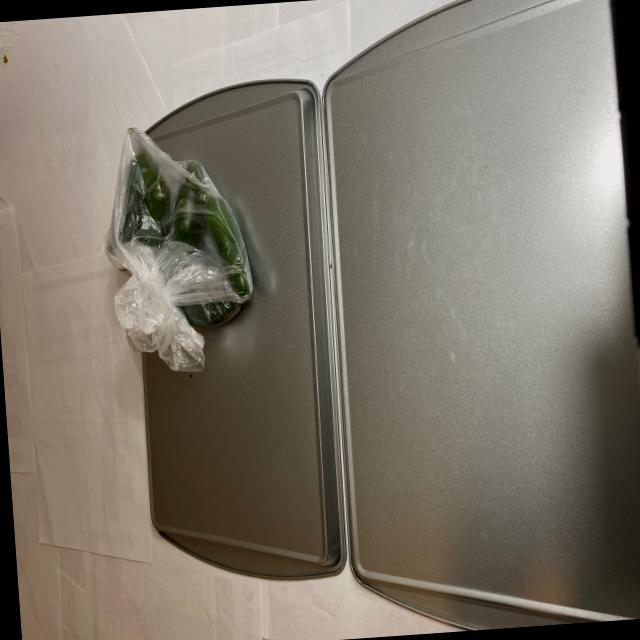chilli: (102, 117, 255, 332)
